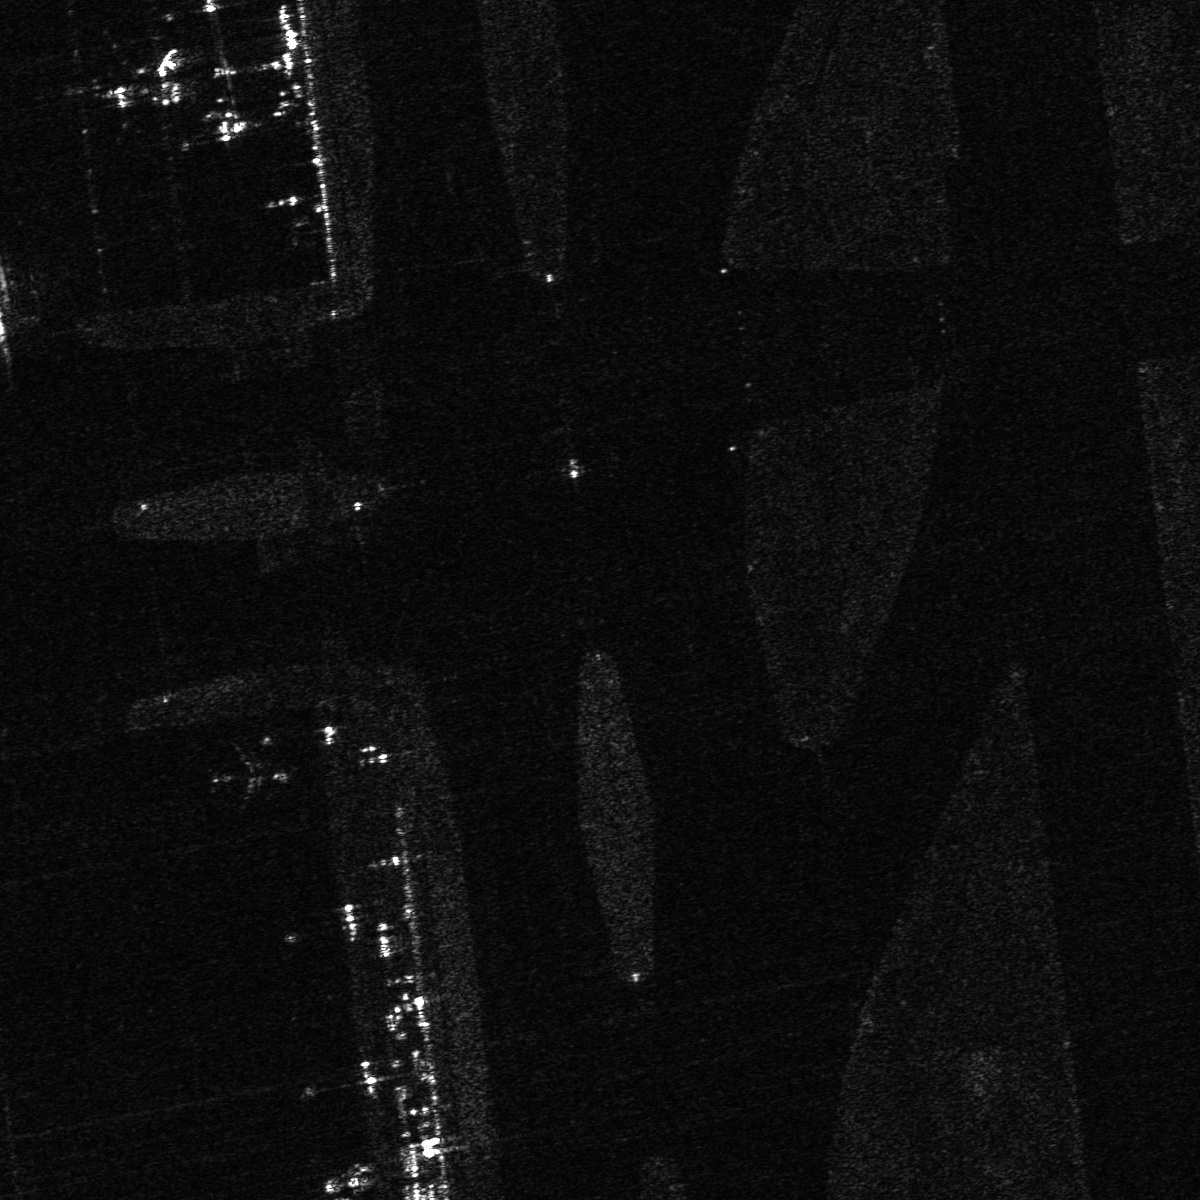Boeing737: (202, 742, 297, 818)
